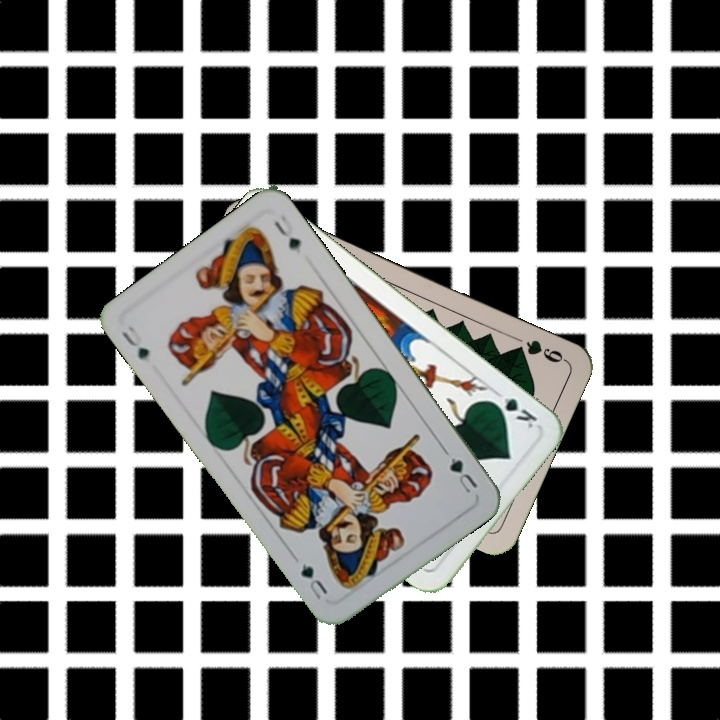G9: (509, 335, 569, 366)
GK: (486, 393, 540, 433)
GU: (440, 445, 481, 496), (117, 322, 152, 364)
